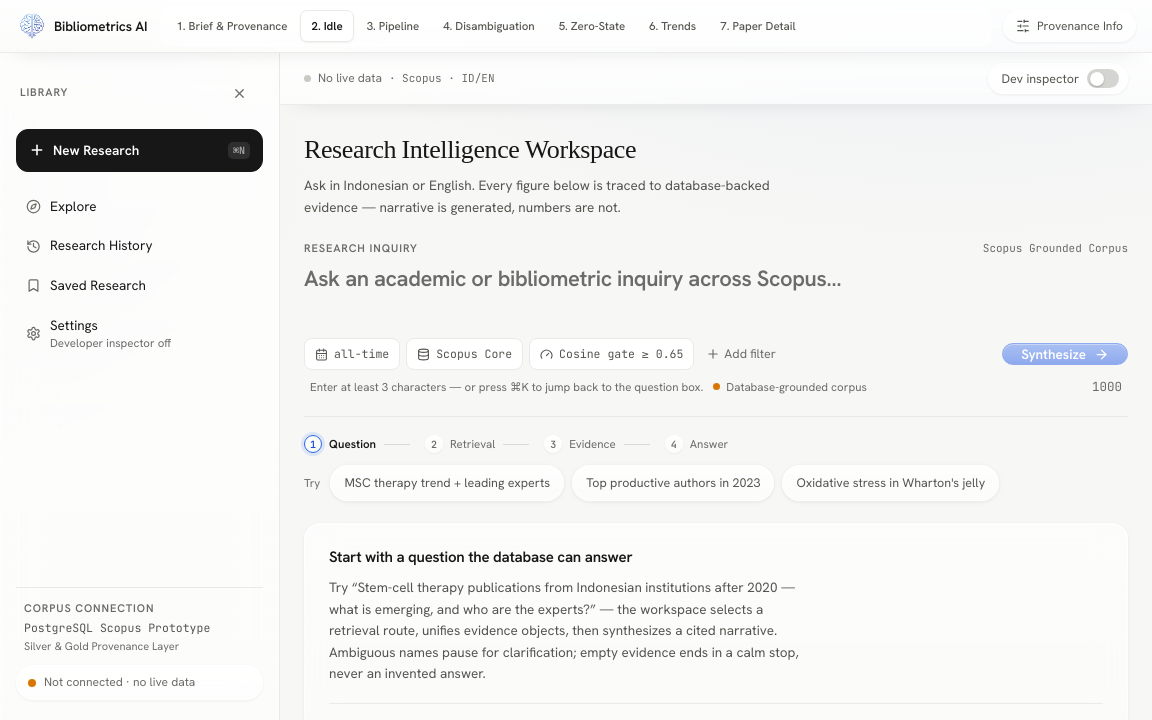
P0-A: backend failure never renders fabricated data › network failure renders an error state with no numbers
In the text box named "research question": (716, 293) [304,265,1128,321], type "MSC therapy trend in Indonesia after 2020?"
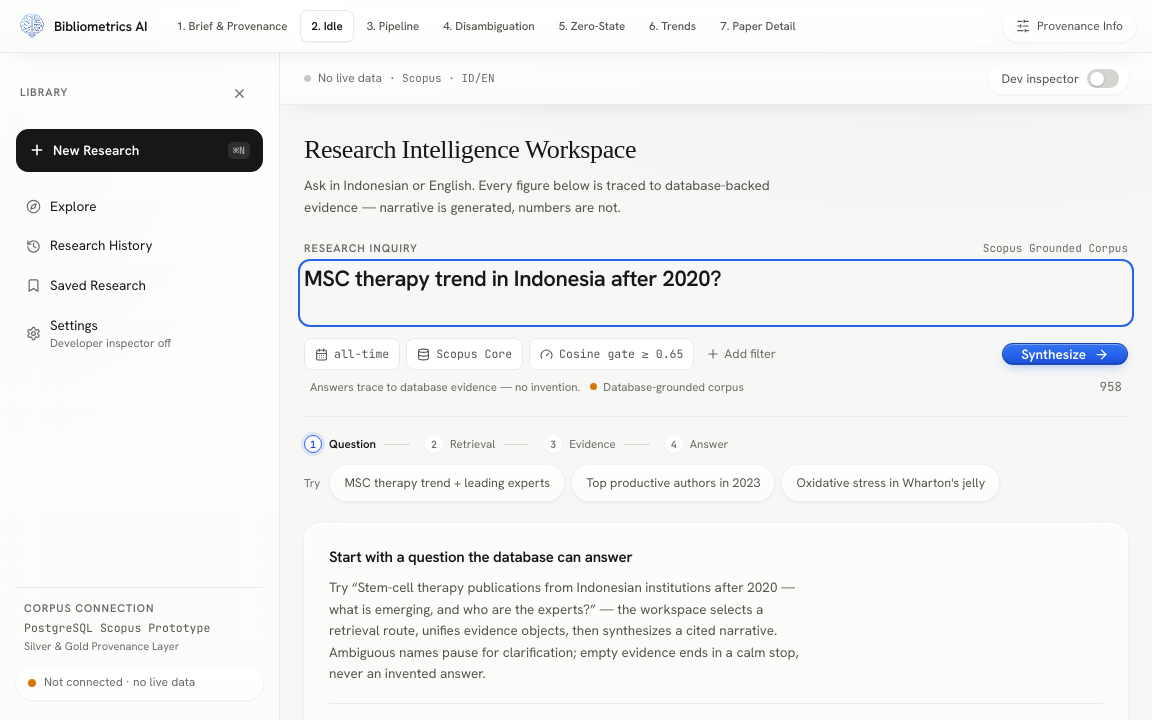
Click the button "Synthesize": (1065, 354) [1002,342,1128,365]
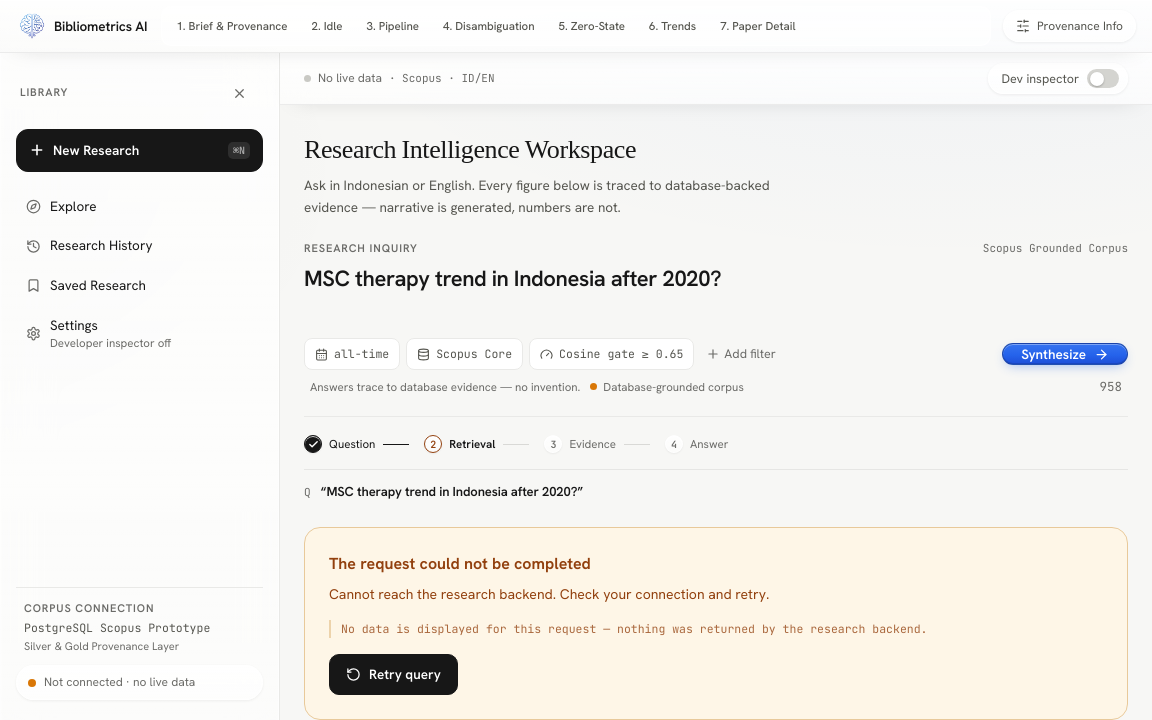
Expected: the message is shown, [304,526,1128,719]
